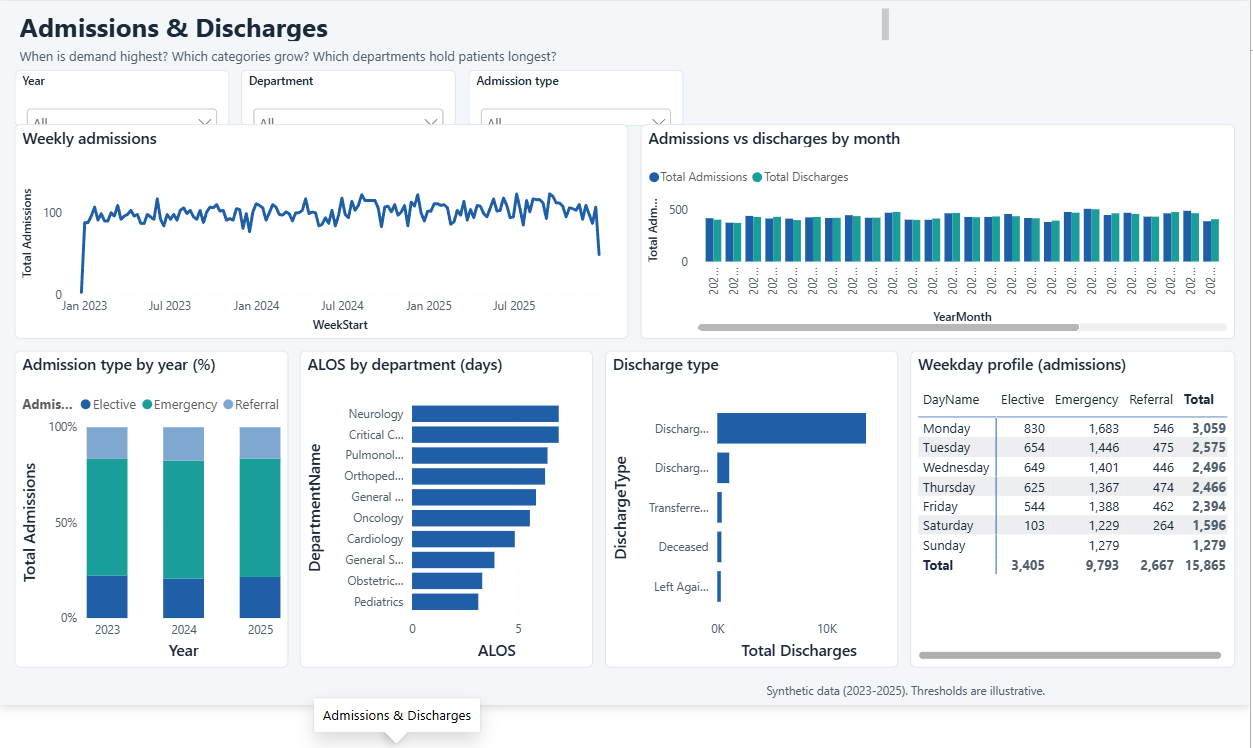

The dashboard page shown, as its layout file describes it:
{"tool":"powerbi","page":{"name":"Admissions & Discharges","canvas":[1280,720],"ordinal":1},"visuals":[{"type":"textbox","box":[16,2,900,44],"z":100},{"type":"textbox","box":[16,42,1240,30],"z":200},{"type":"textbox","box":[780,690,484,30],"z":300},{"type":"slicer","title":"Year","fields":{"Values":["DimDate.Year"]},"box":[16,70,220,58],"z":400},{"type":"slicer","title":"Department","fields":{"Values":["DimDepartments.DepartmentName"]},"box":[248,70,220,58],"z":500},{"type":"slicer","title":"Admission type","fields":{"Values":["FactAdmissions.AdmissionType"]},"box":[480,70,220,58],"z":600},{"type":"lineChart","title":"Weekly admissions","fields":{"Category":["DimDate.WeekStart"],"Y":["_Measures.Total Admissions"]},"box":[16,126,628,220],"z":700},{"type":"clusteredColumnChart","title":"Admissions vs discharges by month","fields":{"Category":["DimDate.YearMonth"],"Y":["_Measures.Total Admissions","_Measures.Total Discharges"]},"box":[656,126,608,220],"z":800},{"type":"hundredPercentStackedColumnChart","title":"Admission type by year (%)","fields":{"Category":["DimDate.Year"],"Y":["_Measures.Total Admissions"],"Series":["FactAdmissions.AdmissionType"]},"box":[16,358,280,324],"z":900},{"type":"clusteredBarChart","title":"ALOS by department (days)","fields":{"Category":["DimDepartments.DepartmentName"],"Y":["_Measures.ALOS"]},"box":[308,358,300,324],"z":1000},{"type":"clusteredBarChart","title":"Discharge type","fields":{"Category":["FactAdmissions.DischargeType"],"Y":["_Measures.Total Discharges"]},"box":[620,358,300,324],"z":1100},{"type":"pivotTable","title":"Weekday profile (admissions)","fields":{"Rows":["DimDate.DayName"],"Columns":["FactAdmissions.AdmissionType"],"Values":["_Measures.Total Admissions"]},"box":[932,358,332,324],"z":1200}]}

Visuals, with their boxes on the page's 1280x720 design canvas (x1, y1, x2, y2). These are canvas units, not pixel positions in the 1253x748 screenshot, which may show the page scaled, cropped or inside an application window:
textbox: <bbox>16, 2, 916, 46</bbox>
textbox: <bbox>16, 42, 1256, 72</bbox>
textbox: <bbox>780, 690, 1264, 720</bbox>
"Year" slicer: <bbox>16, 70, 236, 128</bbox>
"Department" slicer: <bbox>248, 70, 468, 128</bbox>
"Admission type" slicer: <bbox>480, 70, 700, 128</bbox>
"Weekly admissions" lineChart: <bbox>16, 126, 644, 346</bbox>
"Admissions vs discharges by month" clusteredColumnChart: <bbox>656, 126, 1264, 346</bbox>
"Admission type by year (%)" hundredPercentStackedColumnChart: <bbox>16, 358, 296, 682</bbox>
"ALOS by department (days)" clusteredBarChart: <bbox>308, 358, 608, 682</bbox>
"Discharge type" clusteredBarChart: <bbox>620, 358, 920, 682</bbox>
"Weekday profile (admissions)" pivotTable: <bbox>932, 358, 1264, 682</bbox>
